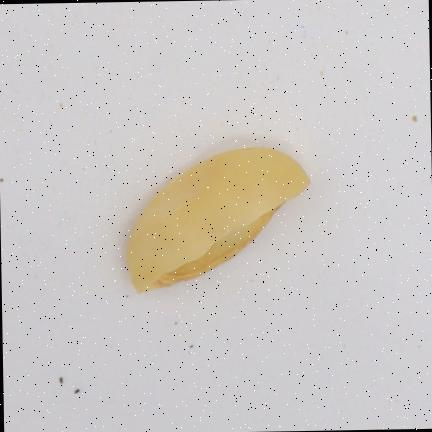parchment: (127, 147, 309, 292)
